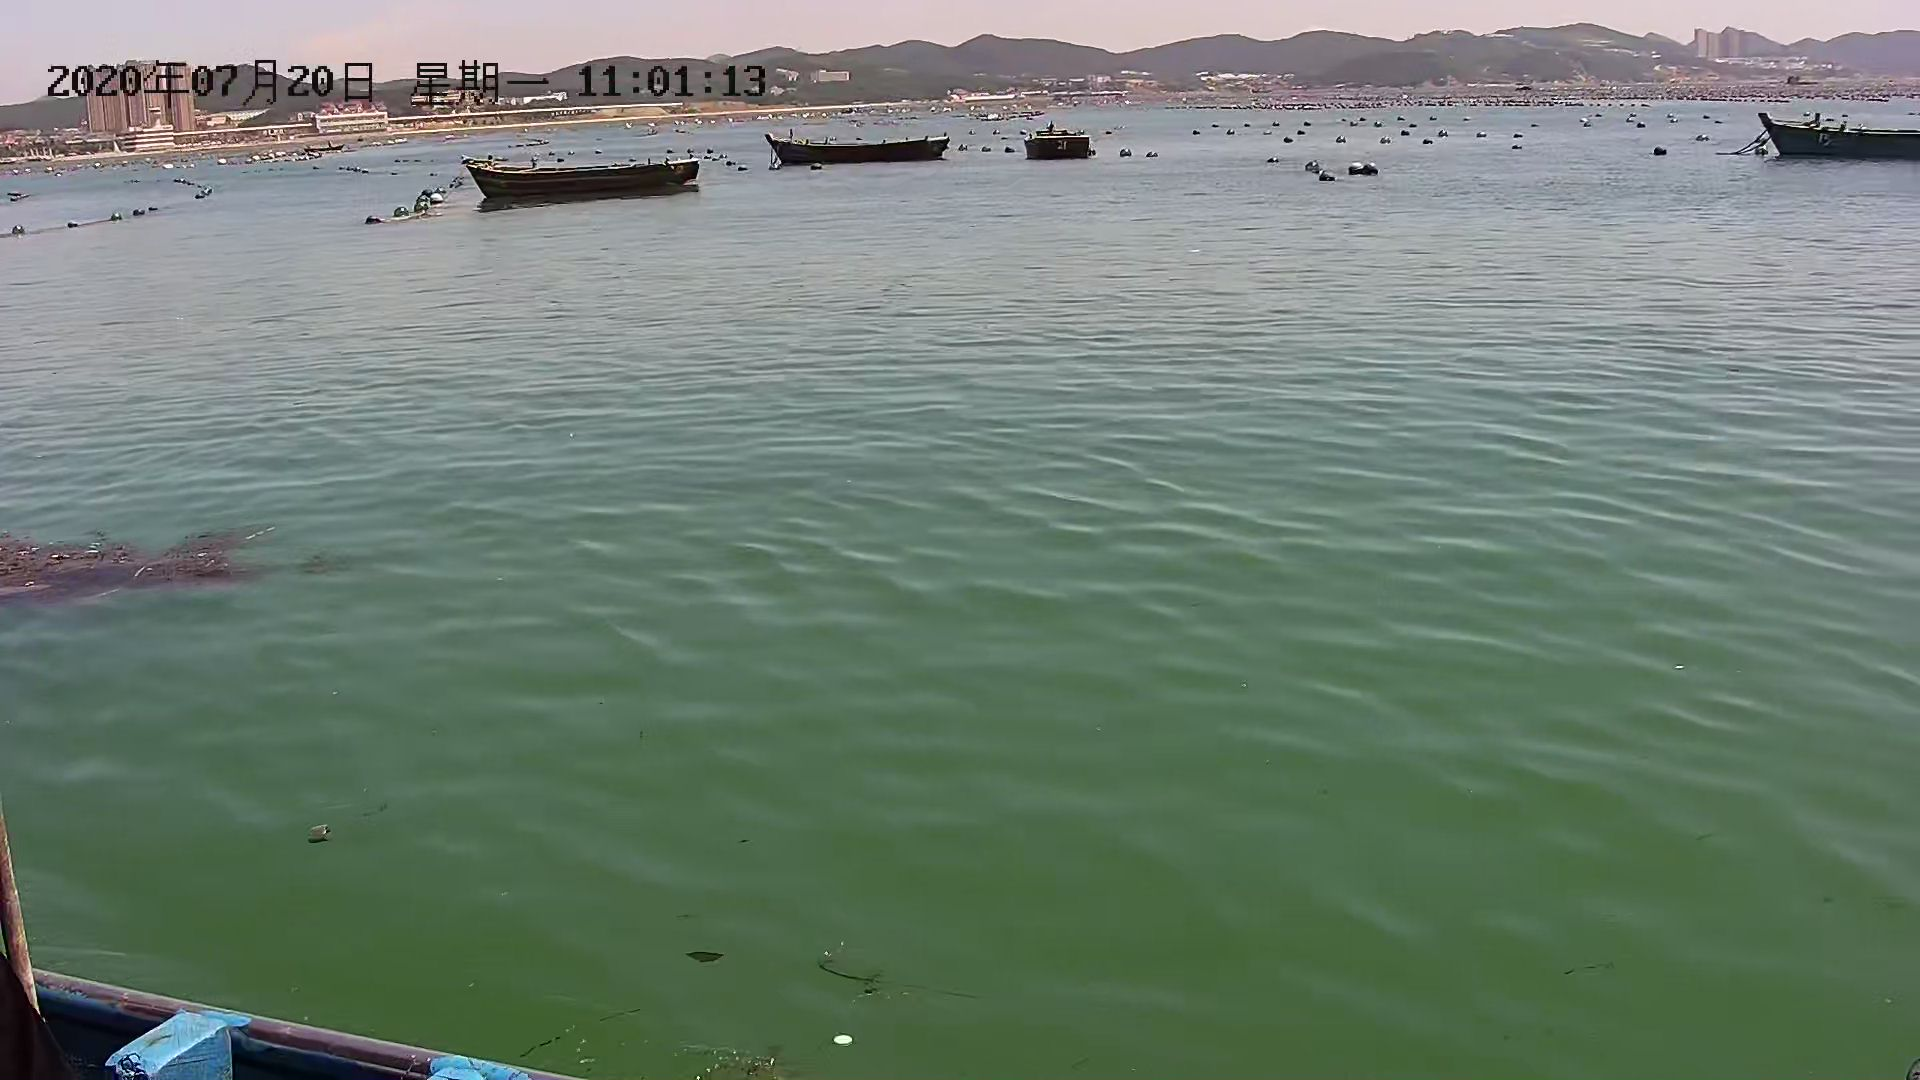ball: (1344, 160, 1369, 182), (386, 202, 410, 222), (1316, 167, 1338, 185), (1361, 164, 1385, 179), (1648, 142, 1669, 160)
boat: (462, 154, 705, 200), (1750, 107, 1920, 162), (761, 131, 953, 165), (1014, 127, 1098, 158)
